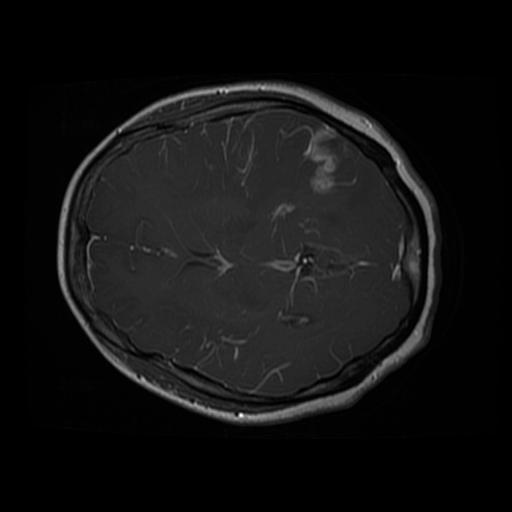glioma: (303, 124, 343, 198)
